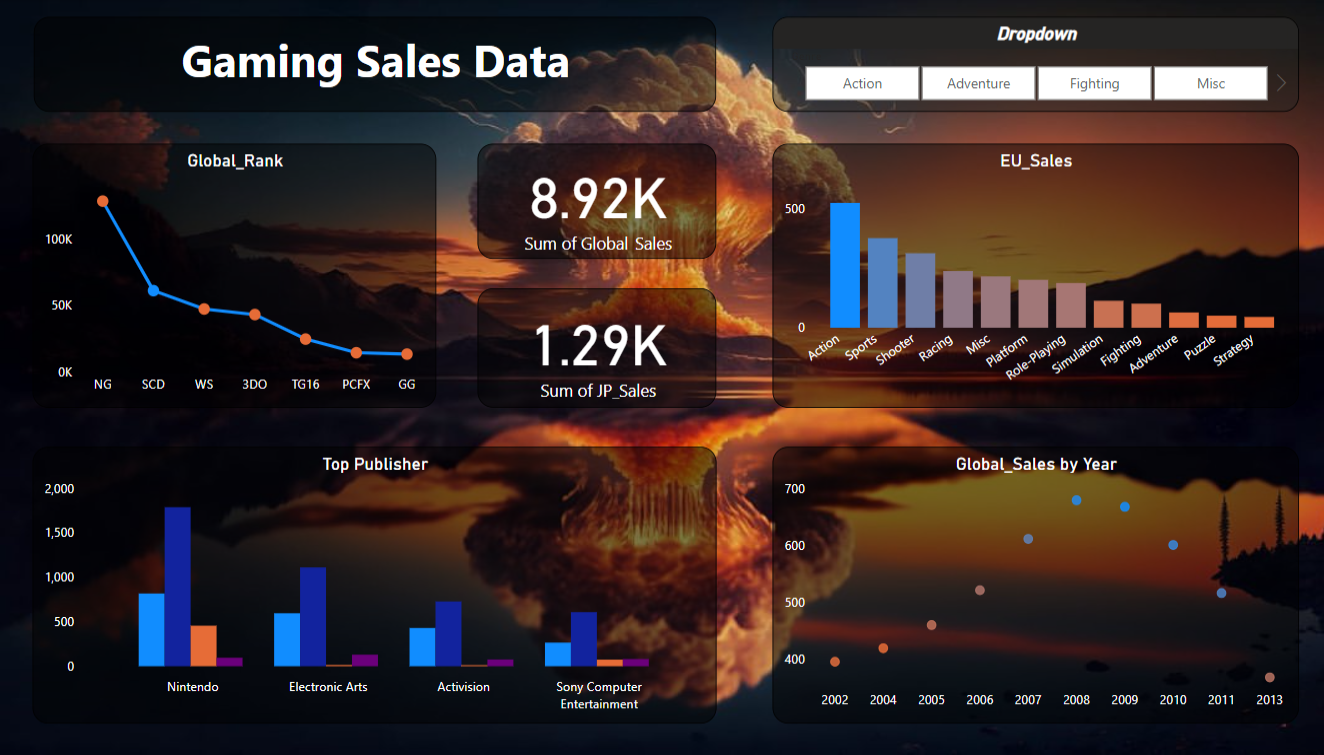

What the dashboard file says about the page in this screenshot:
{"tool":"powerbi","page":{"name":"Page 1","canvas":[1280,720],"ordinal":0},"visuals":[{"type":"clusteredColumnChart","title":"EU_Sales ","fields":{"Y":["Sum(vgsales.EU_Sales)"],"Category":["vgsales.Genre"]},"box":[745.3,137.5,507.7,250.9],"z":0},{"type":"lineChart","title":"Global_Rank","fields":{"Category":["vgsales.Platform"],"Y":["Sum(vgsales.Rank)"]},"box":[31.6,137.2,389.7,251.1],"z":1000},{"type":"clusteredColumnChart","title":"Top Publisher","fields":{"Category":["vgsales.Publisher"],"Y":["Sum(vgsales.NA_Sales)","Sum(vgsales.Global_Sales)","Sum(vgsales.JP_Sales)","Sum(vgsales.Other_Sales)"]},"box":[31.6,425.4,660,263.5],"z":2000},{"type":"card","fields":{"Values":["Sum(vgsales.JP_Sales)"]},"box":[461.1,274.4,230.5,113.9],"z":3000},{"type":"card","fields":{"Values":["Sum(vgsales.Global_Sales)"]},"box":[461.1,137.2,230.5,109.8],"z":4000},{"type":"scatterChart","title":"Global_Sales by Year","fields":{"X":["vgsales.Year"],"Y":["Sum(vgsales.Global_Sales)"]},"box":[745.3,425.7,507.7,262.9],"z":5000},{"type":"textbox","box":[32.6,16.9,658.5,90.5],"z":6000},{"type":"slicer","title":"Dropdown","fields":{"Values":["vgsales.Genre"]},"box":[745.3,16.9,507.7,90.5],"z":7000}]}

Visuals, with their boxes in screenshot pixels (x1, y1, x2, y2), scaled from the page's 1280x720 canvas onto the 1324x755 screenshot:
"EU_Sales " clusteredColumnChart: l=771, t=144, r=1296, b=407
"Global_Rank" lineChart: l=33, t=144, r=436, b=407
"Top Publisher" clusteredColumnChart: l=33, t=446, r=715, b=722
card - Sum(vgsales.JP_Sales): l=477, t=288, r=715, b=407
card - Sum(vgsales.Global_Sales): l=477, t=144, r=715, b=259
"Global_Sales by Year" scatterChart: l=771, t=446, r=1296, b=722
textbox: l=34, t=18, r=715, b=113
"Dropdown" slicer: l=771, t=18, r=1296, b=113
